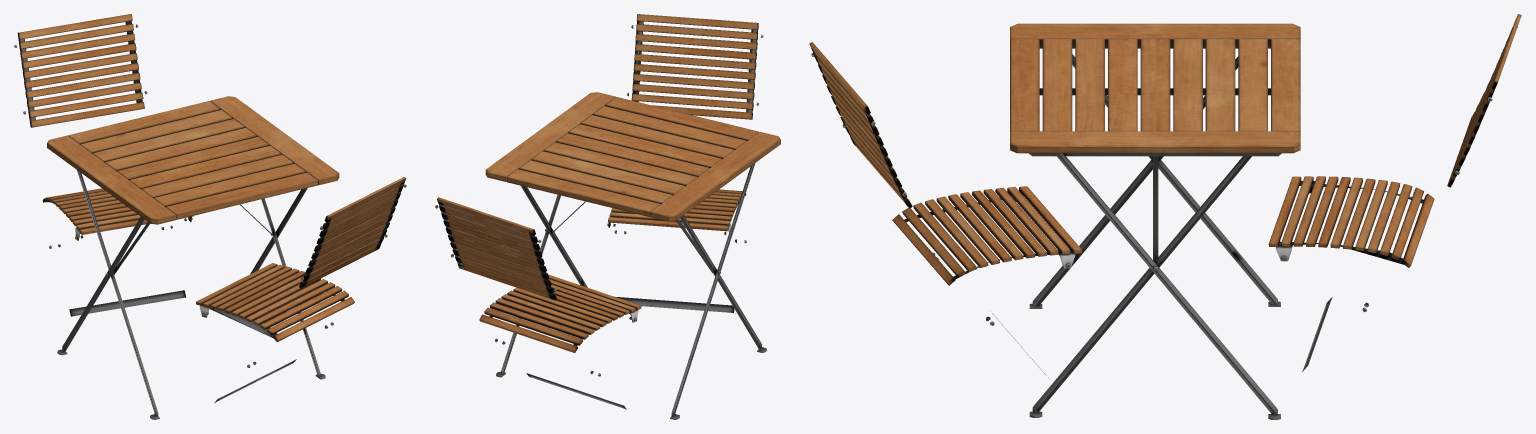
File: outdoor_table_chair_set_01.glb
3 views of the same model, side by side, from view 1: azimuth 30°, elevation 25°; view 2: azimuth 150°, elevation 25°; view 3: azimuth 270°, elevation 25° (orthographic). The views are drawn at different scales.
Visible parts, largest first — view 1: outdoor_table_chair_set_01_table, outdoor_table_chair_set_01_chair_02, outdoor_table_chair_set_01_chair_01; view 2: outdoor_table_chair_set_01_table, outdoor_table_chair_set_01_chair_02, outdoor_table_chair_set_01_chair_01; view 3: outdoor_table_chair_set_01_table, outdoor_table_chair_set_01_chair_01, outdoor_table_chair_set_01_chair_02.
Part boxes in pixels (x1,y1,x2,y2): outdoor_table_chair_set_01_table: (47,96,339,419); outdoor_table_chair_set_01_chair_02: (14,14,193,316); outdoor_table_chair_set_01_chair_01: (196,177,406,402); outdoor_table_chair_set_01_table: (485,92,780,419); outdoor_table_chair_set_01_chair_02: (435,197,641,409); outdoor_table_chair_set_01_chair_01: (607,14,763,312); outdoor_table_chair_set_01_table: (1010,23,1300,419); outdoor_table_chair_set_01_chair_01: (809,42,1081,378); outdoor_table_chair_set_01_chair_02: (1268,14,1521,371).
Bounding box in the file's own units: 0.7404 × 0.8468 × 1.7.
Materials: 2 (2 with a texture image).
